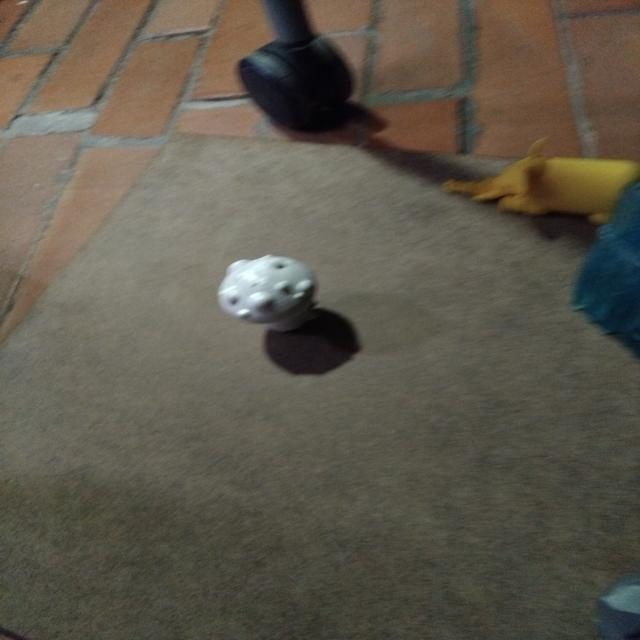Hongo: (206, 246, 332, 336)
